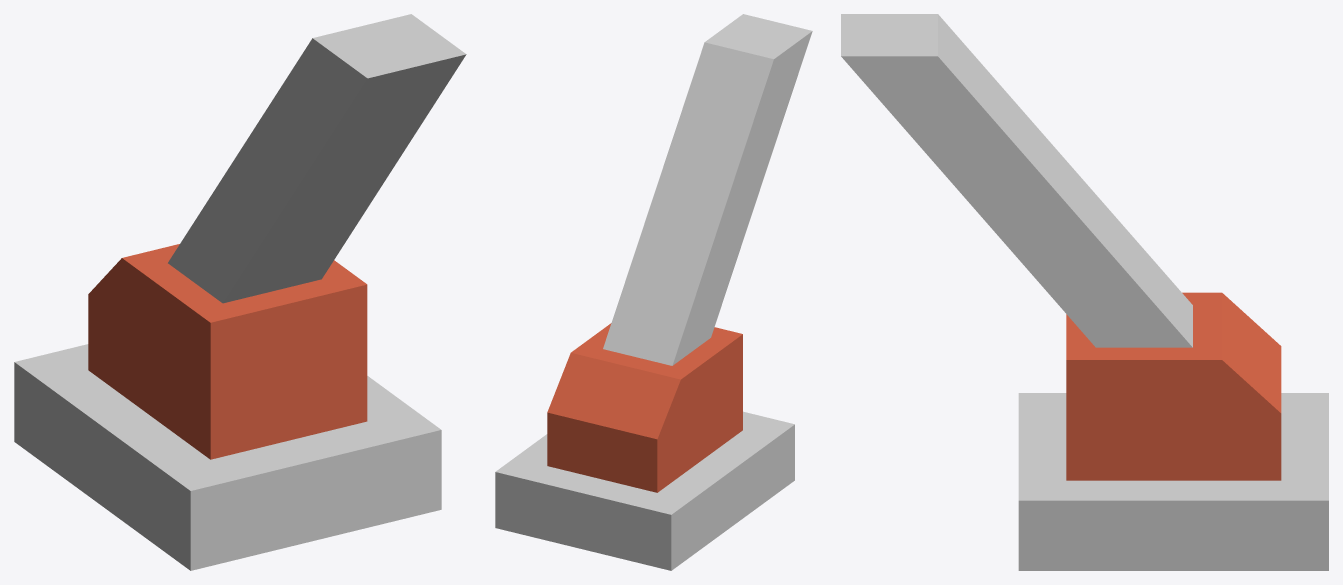
File: spaceCraftStand.glb
The picture shows the model from 3 angles, left to right: view 1: azimuth 30°, elevation 25°; view 2: azimuth 150°, elevation 25°; view 3: azimuth 270°, elevation 25°; orthographic projection. The views are drawn at different scales.
Parts seen in each view (by area): view 1: spaceCraftStand; view 2: spaceCraftStand; view 3: spaceCraftStand.
Boxes of the visible parts, bbox=[...] form: spaceCraftStand: bbox=[14, 14, 466, 570]; spaceCraftStand: bbox=[495, 14, 812, 570]; spaceCraftStand: bbox=[841, 14, 1328, 570].
Bounding box in the file's own units: 2.3 × 4.8 × 4.4.
